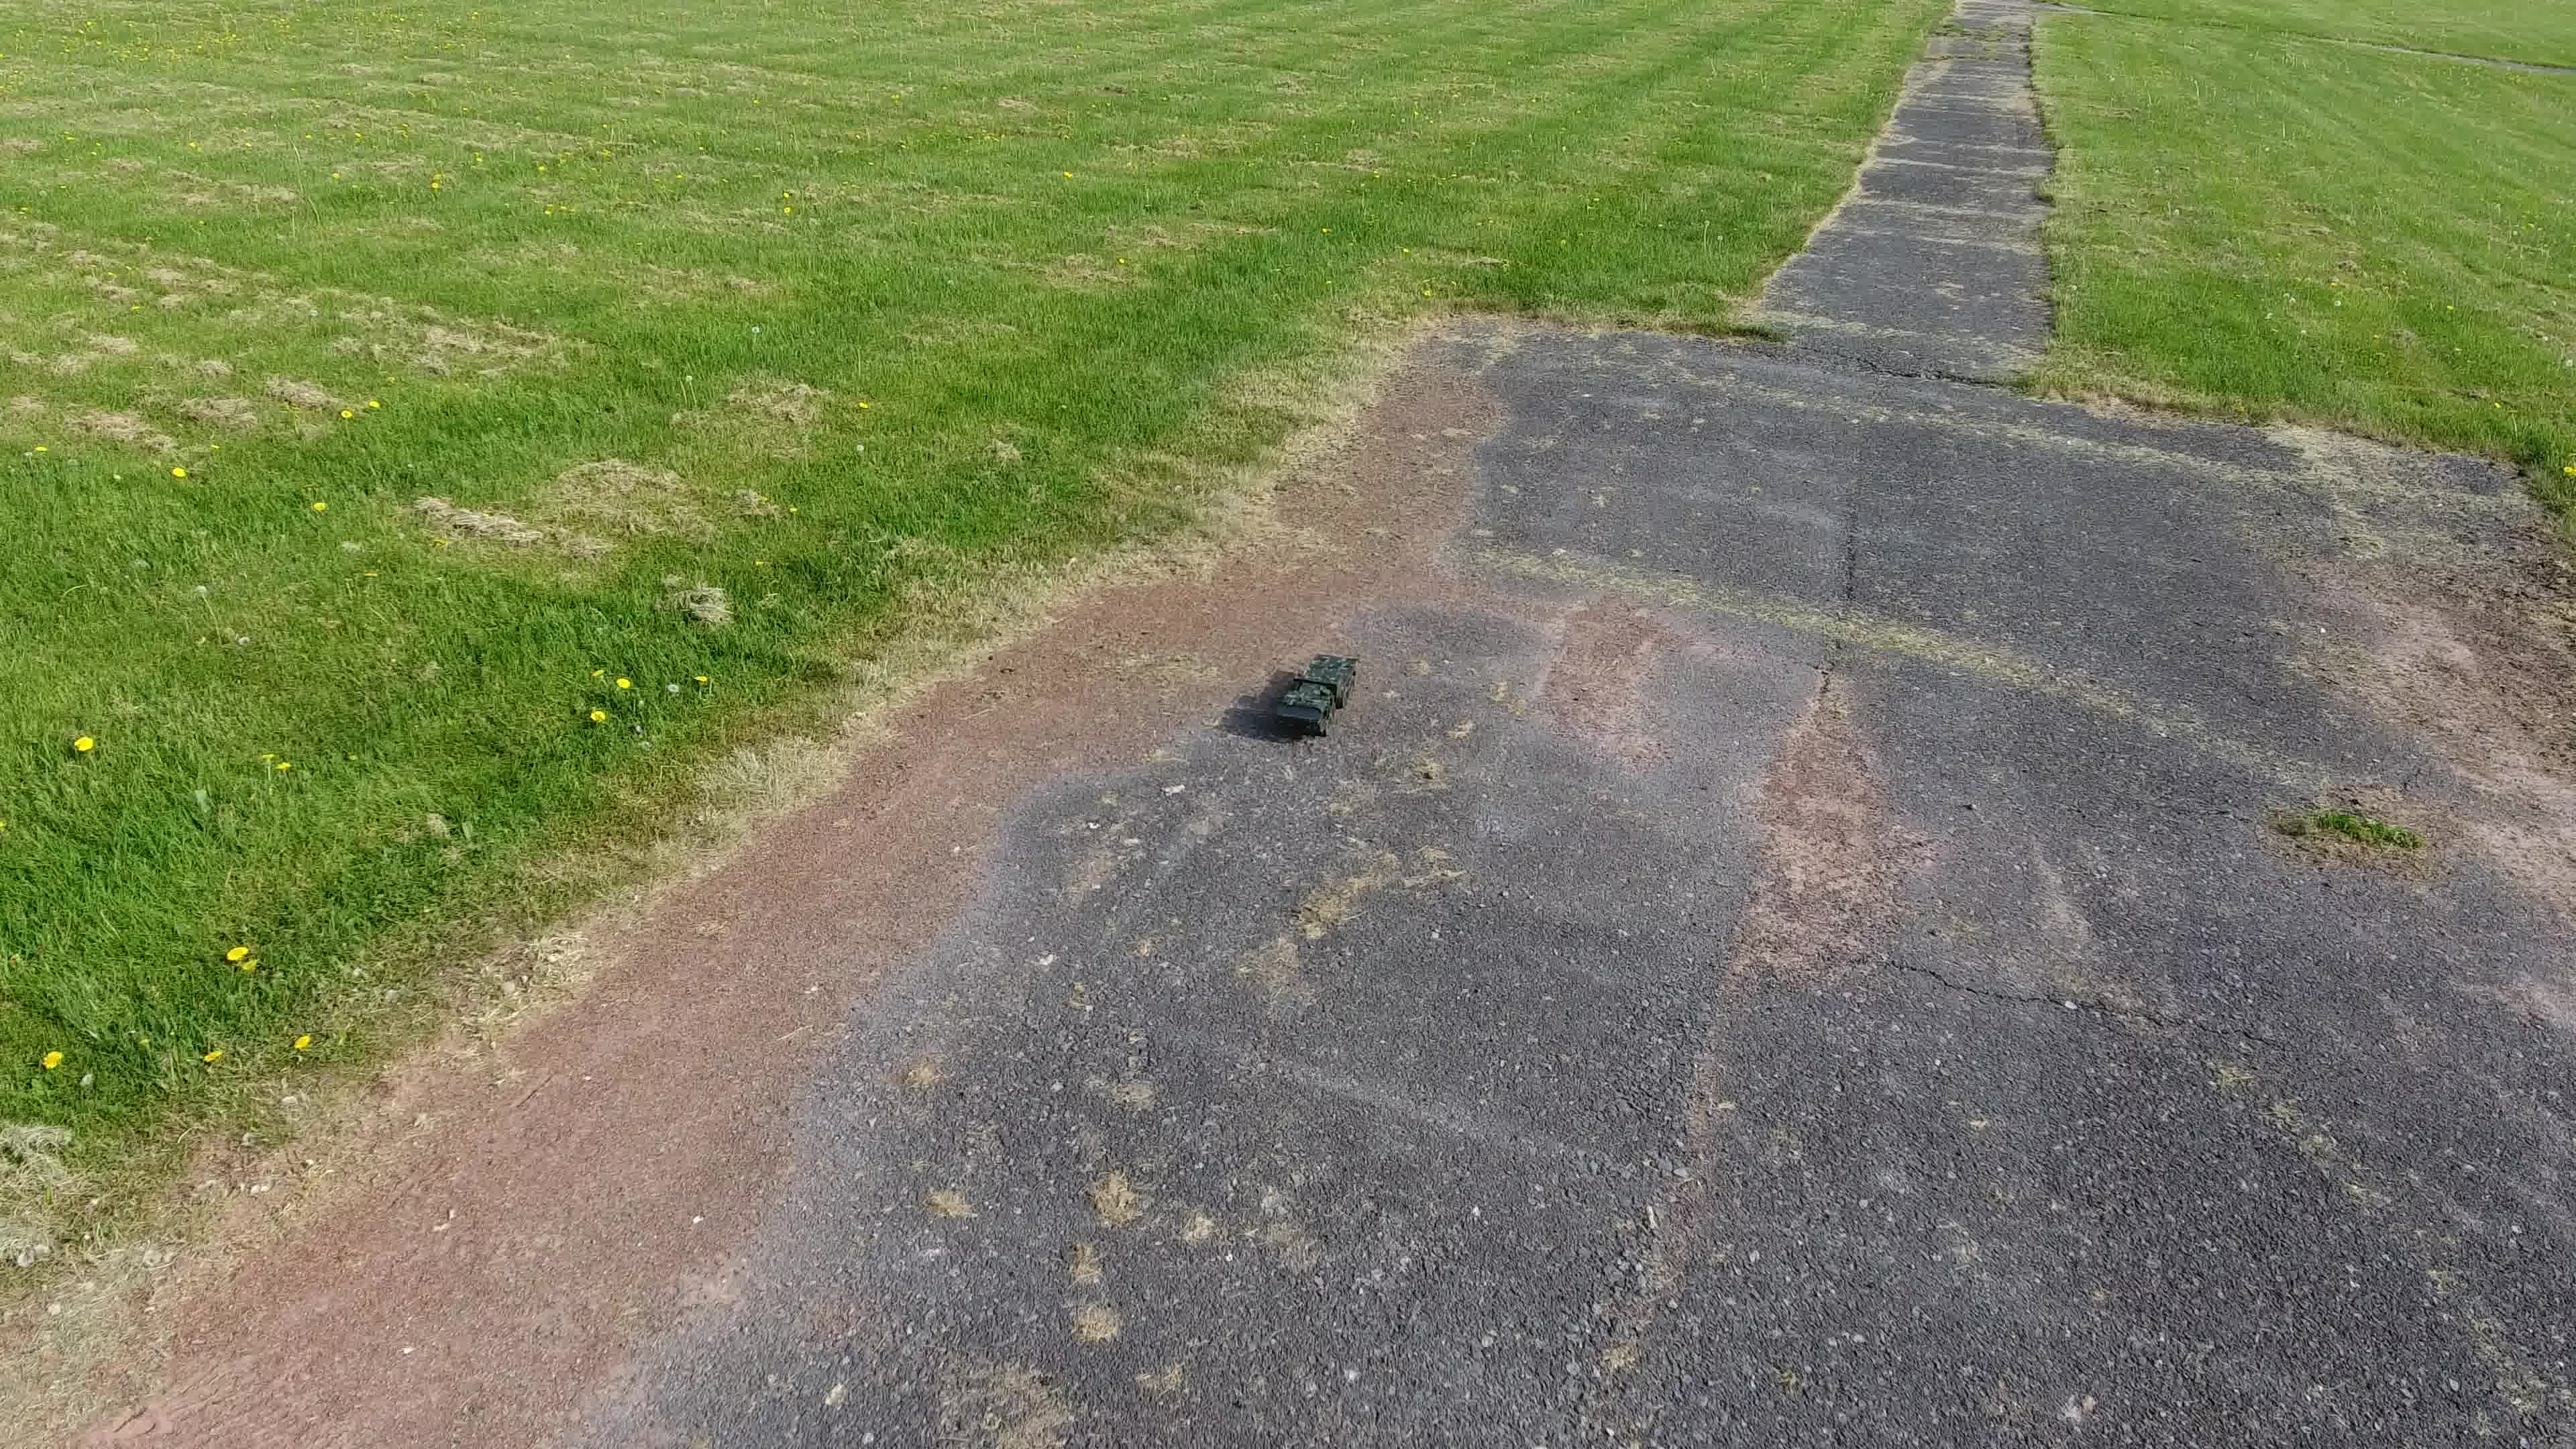transporter9_camo: (1269, 653, 1364, 738)
